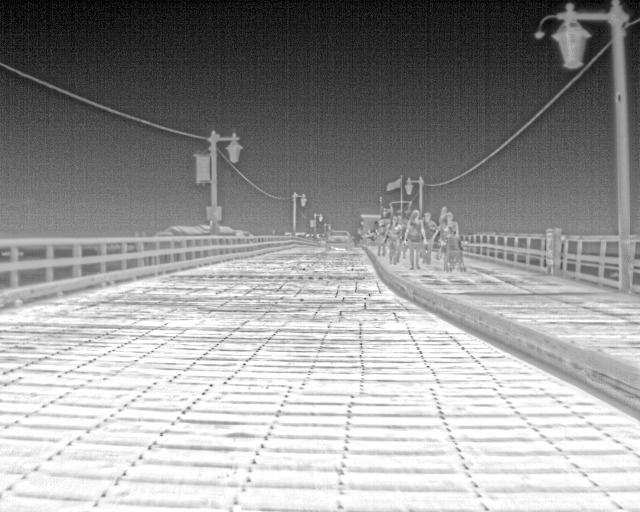bicycle: (323, 229, 355, 251)
empty: (402, 210, 429, 268), (438, 211, 462, 253), (388, 213, 404, 265), (420, 210, 437, 248), (374, 218, 389, 257)
